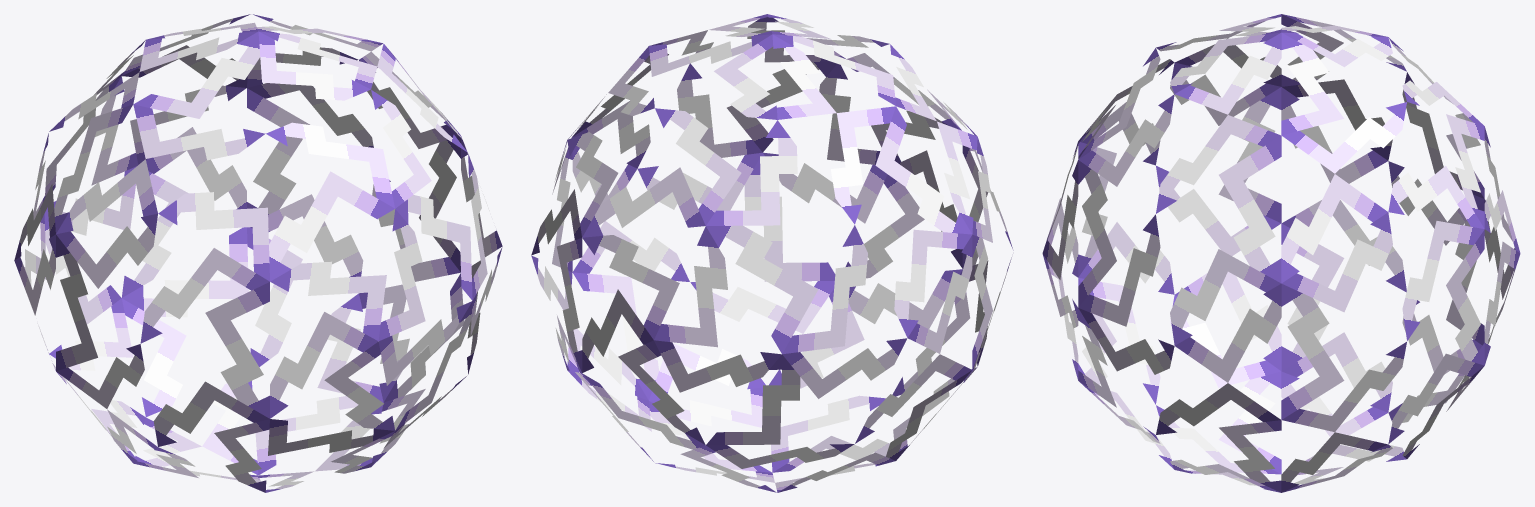
File: Boladelasbolas.fbx
3 renders of one model, left to right at view 1: azimuth 30°, elevation 25°; view 2: azimuth 150°, elevation 25°; view 3: azimuth 270°, elevation 25°, orthographic.
Visible parts, largest first — view 1: Ball2; view 2: Ball2; view 3: Ball2.
Part boxes in pixels (x1=…): Ball2: x1=14, y1=14, x2=502, y2=492; Ball2: x1=531, y1=14, x2=1013, y2=492; Ball2: x1=1042, y1=14, x2=1520, y2=492.
Bounding box in the file's own units: 1.67 × 1.74 × 1.71.
1 material, 1 textured.
